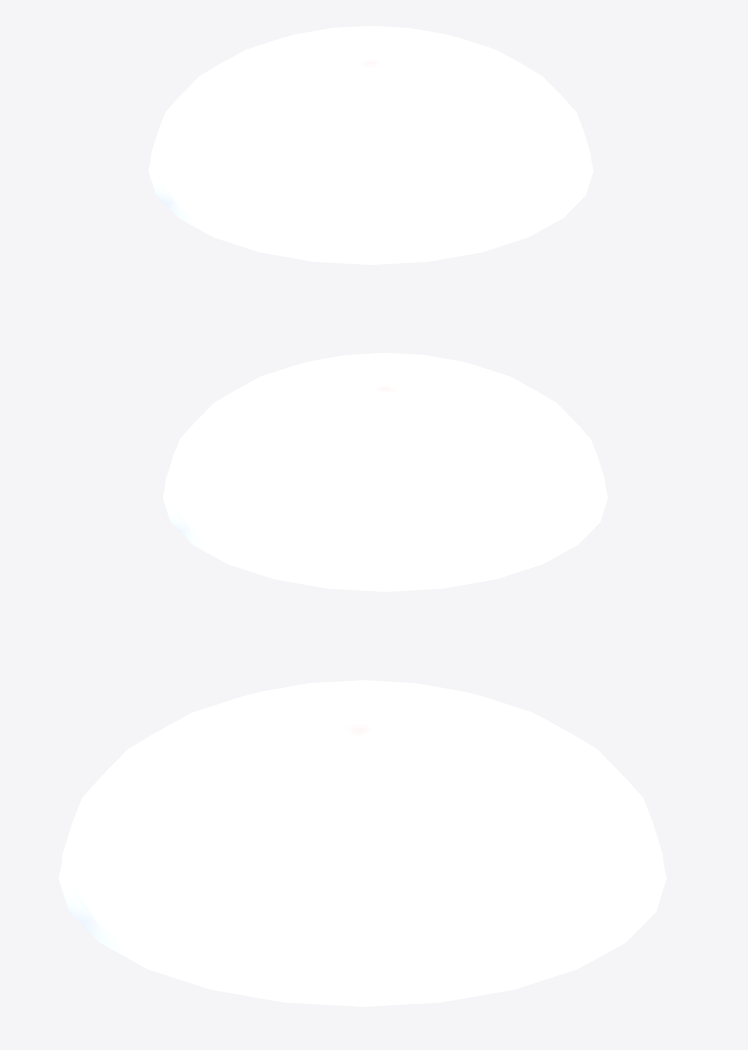
Rendered from level.gltf.
The picture shows the model from 3 angles, top to bottom: view 1: azimuth 30°, elevation 25°; view 2: azimuth 150°, elevation 25°; view 3: azimuth 270°, elevation 25°; orthographic projection. The views are drawn at different scales.
Visible parts, largest first — view 1: P_Dome_MF; view 2: P_Dome_MF; view 3: P_Dome_MF.
Part boxes in pixels (box(x1,y1,x2,y2)): P_Dome_MF: box(148, 25, 593, 264); P_Dome_MF: box(162, 352, 607, 591); P_Dome_MF: box(58, 680, 666, 1006).
Bounding box in the file's own units: 15.73 × 3.57 × 15.73.
Materials: 2 (2 with a texture image).
